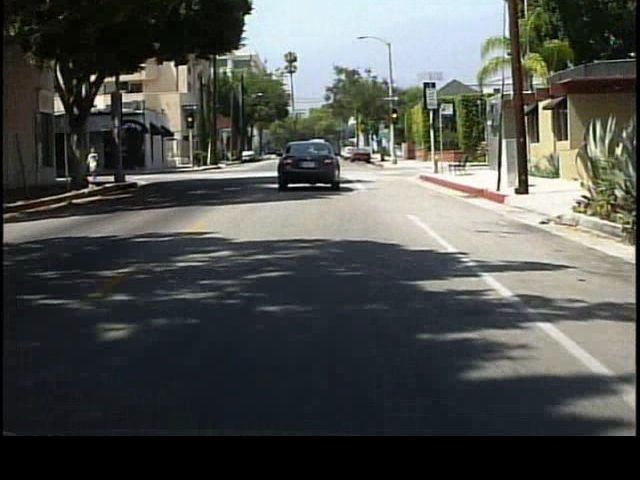person: (87, 142, 101, 184)
